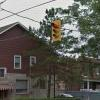Traffic light: (39, 14, 71, 52)
